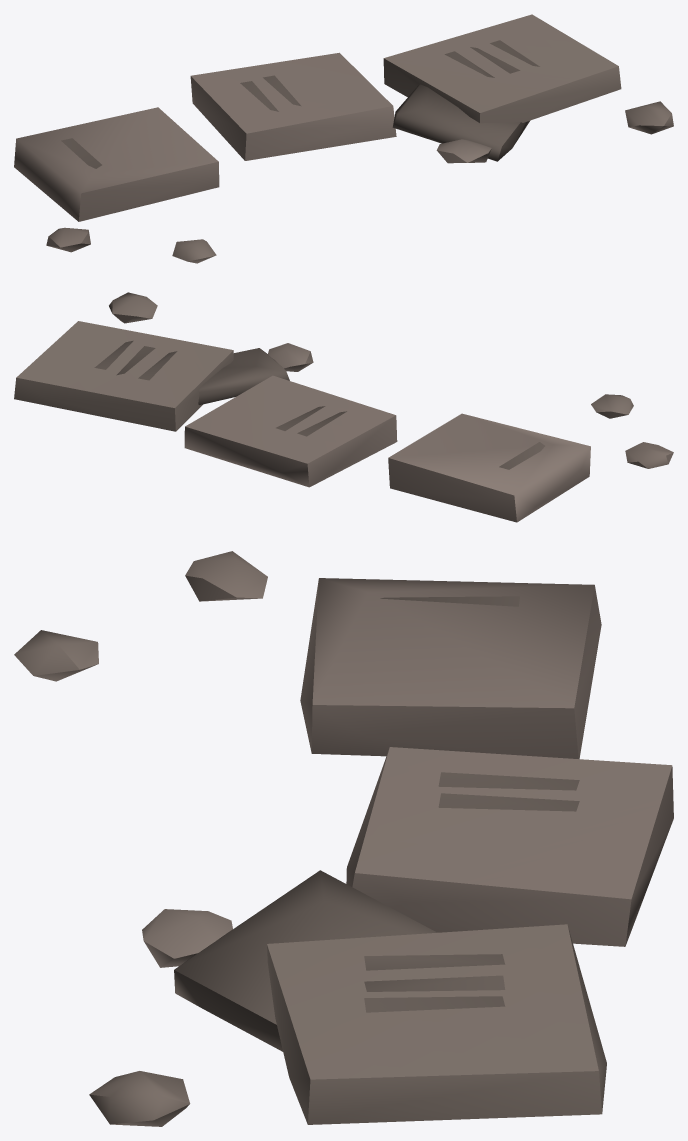
The model's file is stair_stones_b_lod2.glb.
The picture shows the model from 3 angles, top to bottom: view 1: azimuth 30°, elevation 25°; view 2: azimuth 150°, elevation 25°; view 3: azimuth 270°, elevation 25°; orthographic projection. The views are drawn at different scales.
Visible parts, largest first — view 1: Surface.001; view 2: Surface.001; view 3: Surface.001.
Boxes of the visible parts, bbox=[...] form: Surface.001: bbox=[14, 14, 673, 263]; Surface.001: bbox=[14, 292, 673, 522]; Surface.001: bbox=[14, 551, 673, 1126].
Bounding box in the file's own units: 2.67 × 0.218 × 1.33.
